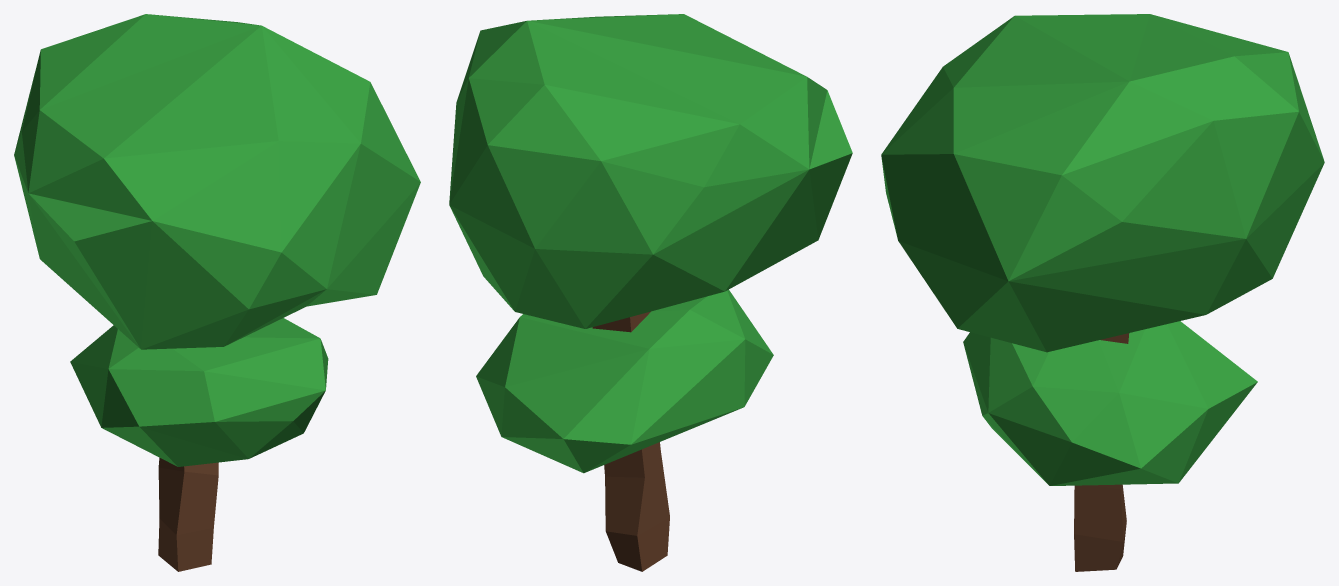
Rendered from Tree_52_Green.fbx.
3 renders of one model, left to right at view 1: azimuth 30°, elevation 25°; view 2: azimuth 150°, elevation 25°; view 3: azimuth 270°, elevation 25°, orthographic. The views are drawn at different scales.
Visible parts, largest first — view 1: Tree_52_Green_Part_1, Tree_52_Green_Part_2; view 2: Tree_52_Green_Part_1, Tree_52_Green_Part_2; view 3: Tree_52_Green_Part_1, Tree_52_Green_Part_2.
Boxes of the visible parts, left/top/right/bottom form: Tree_52_Green_Part_1: left=14, top=14, right=420, bottom=466; Tree_52_Green_Part_2: left=158, top=457, right=218, bottom=571; Tree_52_Green_Part_1: left=449, top=14, right=852, bottom=473; Tree_52_Green_Part_2: left=592, top=311, right=669, bottom=571; Tree_52_Green_Part_1: left=881, top=14, right=1324, bottom=485; Tree_52_Green_Part_2: left=1074, top=333, right=1129, bottom=571.
Bounding box in the file's own units: 447 × 607 × 461.
